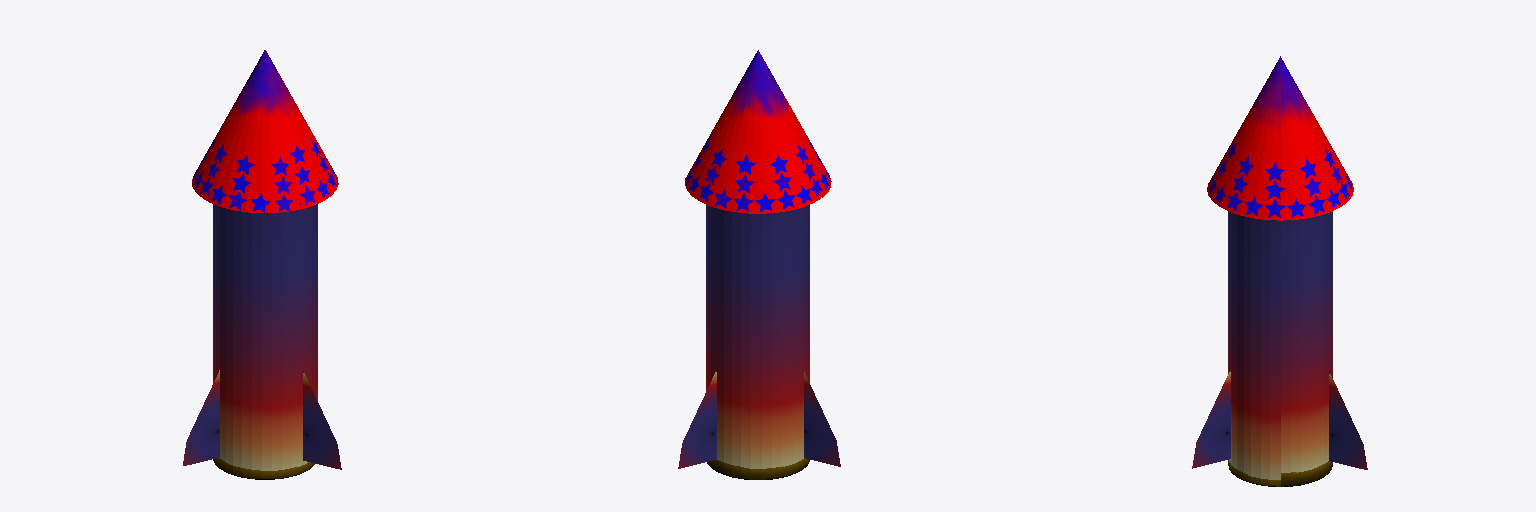
3 renders of one model, left to right at view 1: azimuth 30°, elevation 25°; view 2: azimuth 150°, elevation 25°; view 3: azimuth 270°, elevation 25°, orthographic.
Parts seen in each view (by area): view 1: Cylinder, Cone, Plane.003_Plane.001, Plane; view 2: Cylinder, Cone, Plane.001_Plane.004, Plane; view 3: Cylinder, Cone, Plane.001_Plane.004, Plane.003_Plane.001.
Boxes of the visible parts, <box> form: Cylinder: <box>213,204,317,479</box>; Cone: <box>192,50,338,212</box>; Plane.003_Plane.001: <box>303,371,341,469</box>; Plane: <box>183,370,219,465</box>; Cylinder: <box>706,205,809,479</box>; Cone: <box>685,50,831,213</box>; Plane.001_Plane.004: <box>678,370,716,468</box>; Plane: <box>804,372,840,466</box>; Cylinder: <box>1228,211,1332,486</box>; Cone: <box>1207,56,1353,220</box>; Plane.001_Plane.004: <box>1329,371,1367,469</box>; Plane.003_Plane.001: <box>1192,369,1230,468</box>.
Bounding box in the file's own units: 2.3 × 6.13 × 2.39.
2 materials, 2 textured.